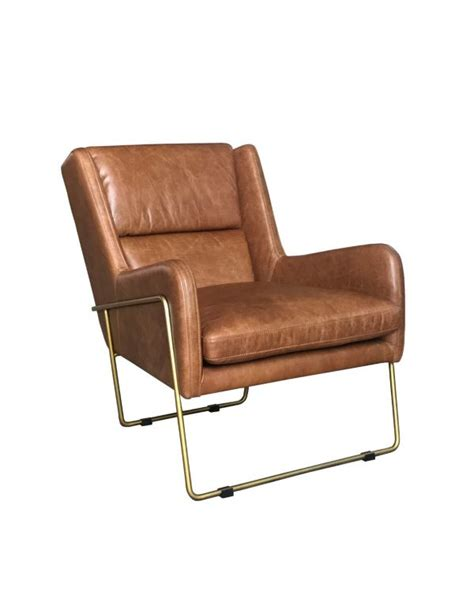cuero: (61, 141, 405, 397)
